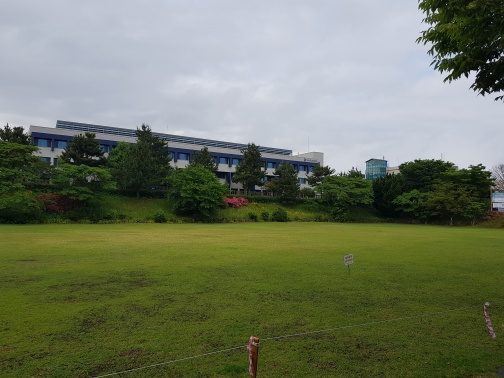College of Social Sciences: (21, 107, 330, 202)
